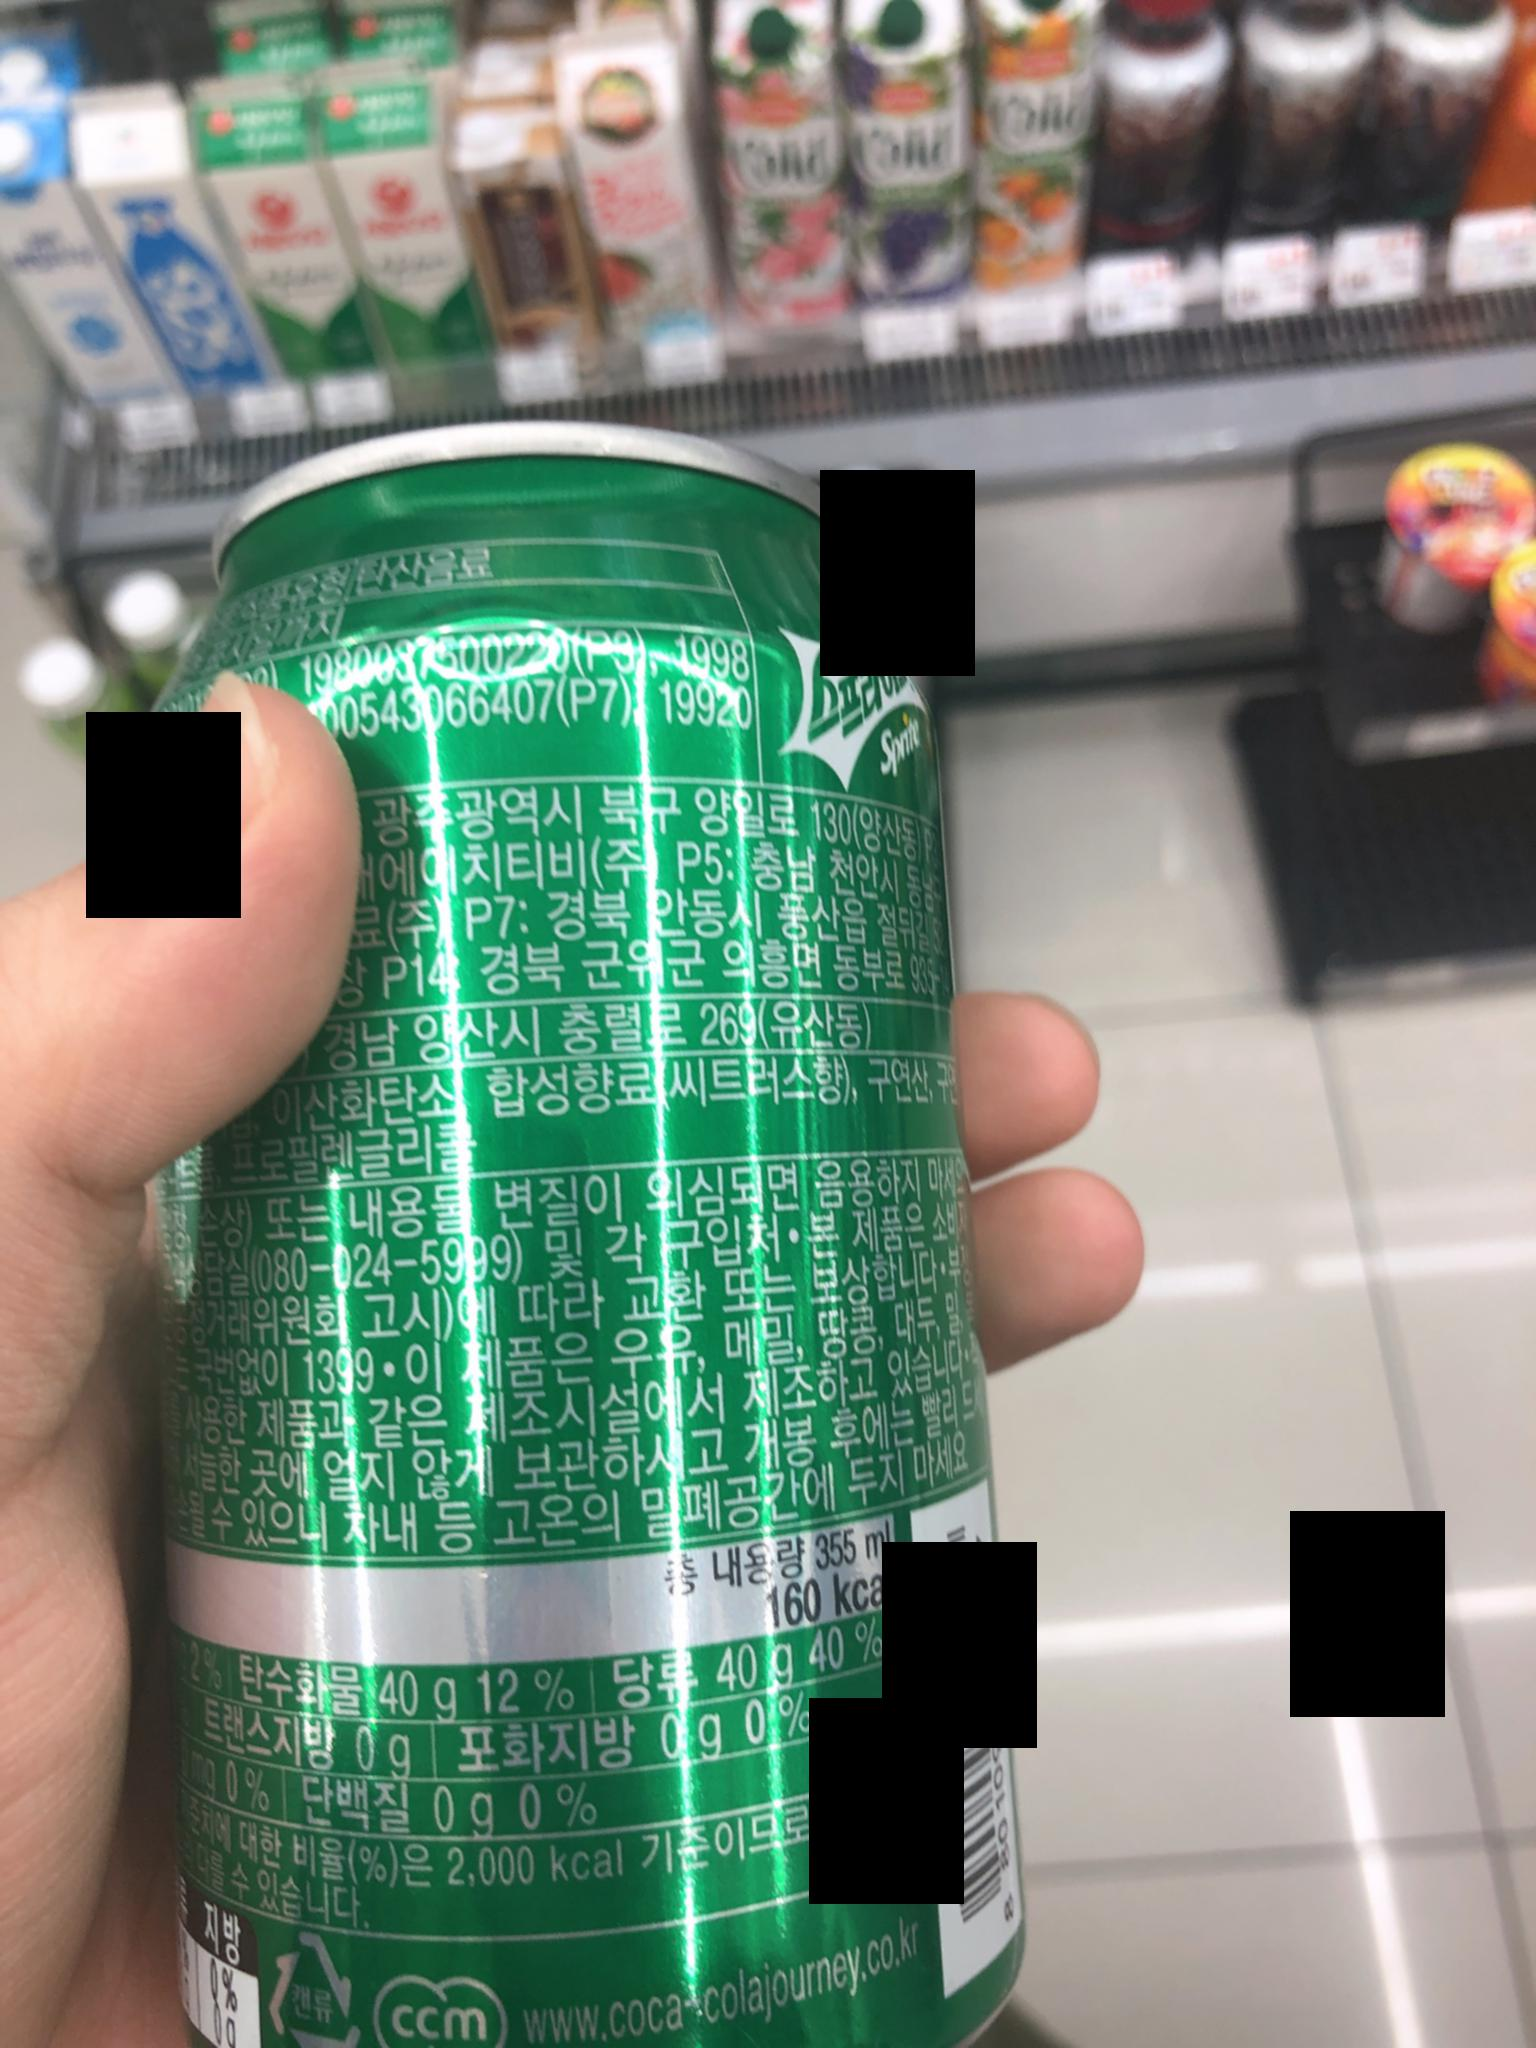sprite: (116, 434, 1055, 2046)
